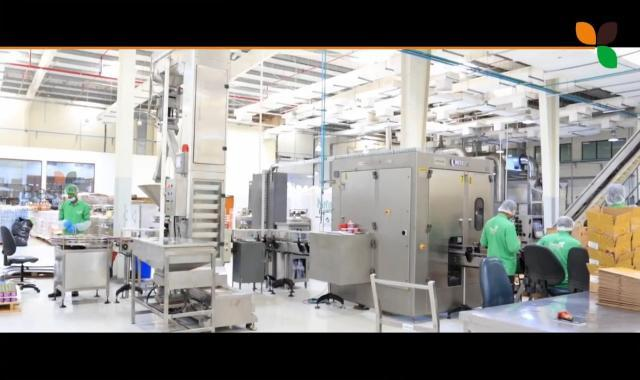Glove: (64, 221, 70, 226), (68, 226, 74, 231)
Hairnet: (553, 217, 574, 231), (499, 199, 517, 215), (66, 185, 79, 194)
Mask: (67, 197, 77, 202)
No_Apron: (484, 217, 515, 274), (539, 233, 574, 275), (63, 203, 87, 233)
